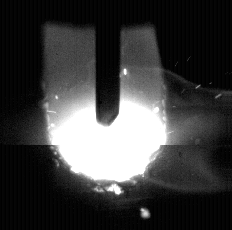arame: (97, 0, 121, 127)
poca: (48, 0, 169, 230)
